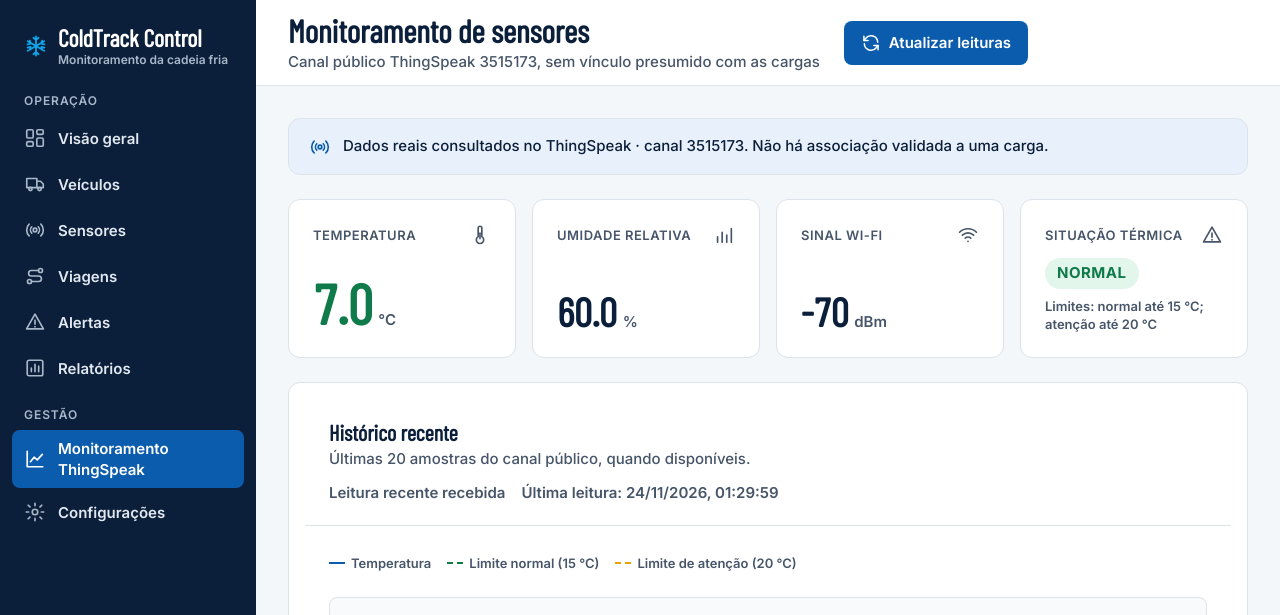
Test case: Monitoramento › falha depois de uma leitura boa: limpa os valores antigos
The width and height of the screenshot is (1280, 615).
Expected: the text with id "temperatura" reads "7.0", [313,269,372,336]
Click the button "Atualizar leituras".
click(936, 43)  # box [844,21,1028,65]
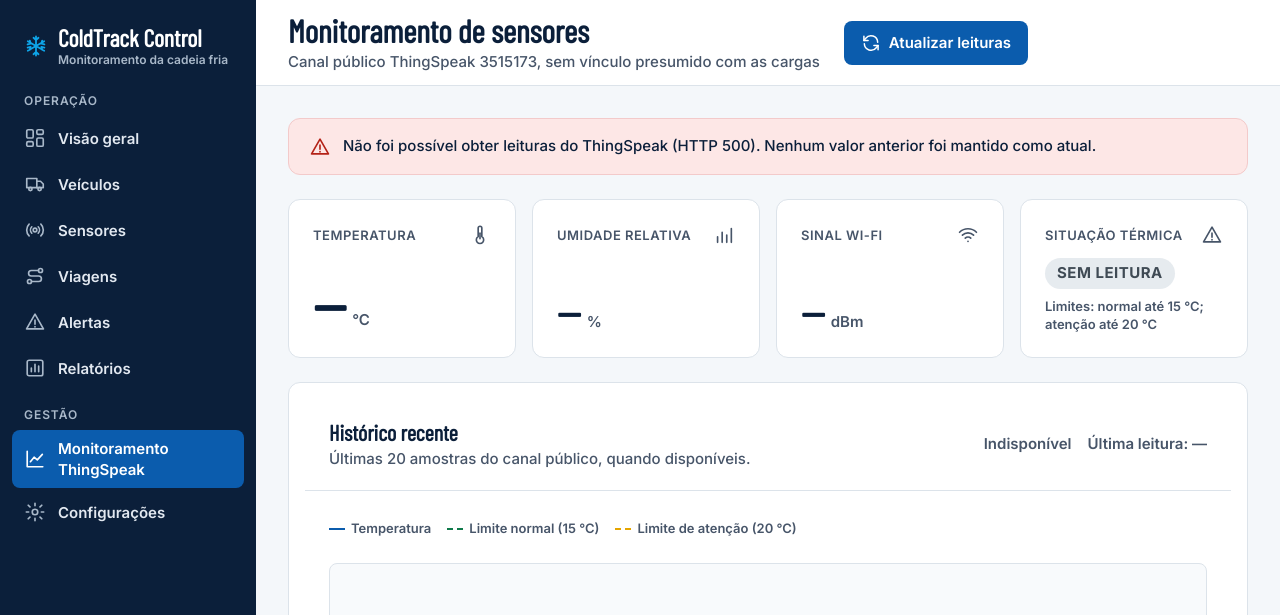
Expected: the text with id "temperatura" reads "—", [313,269,346,336]
Expected: the message with id "conexao" reads "Indisponível", [984,434,1072,453]
